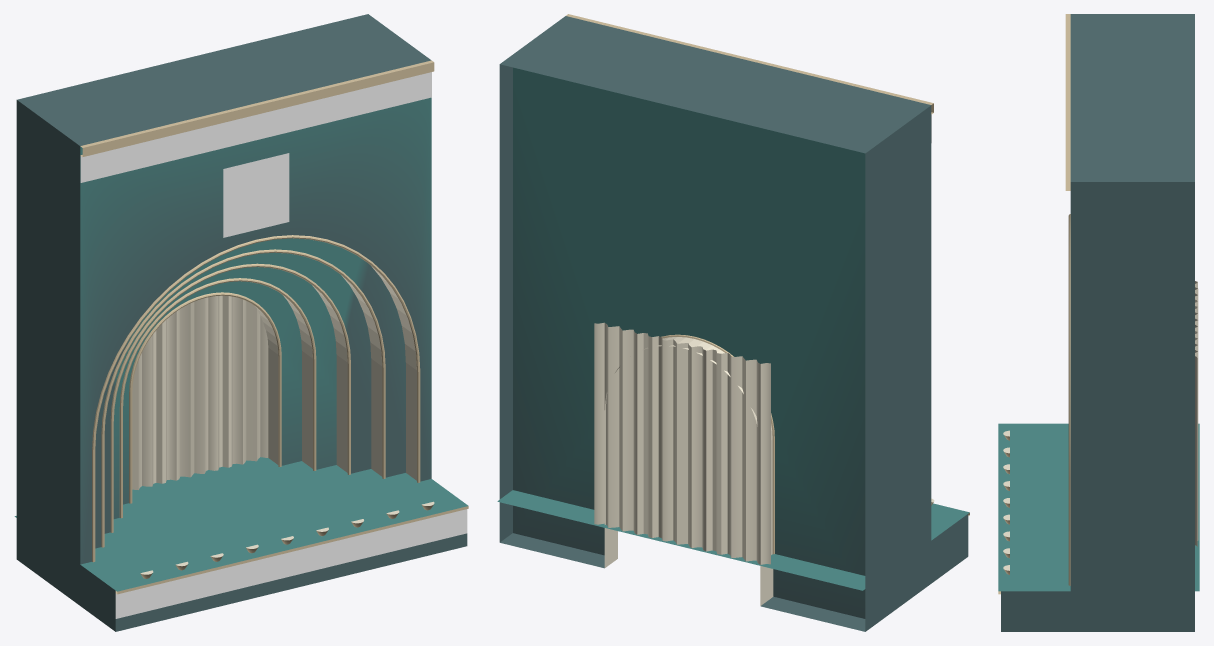
File: KC32__AD_Int_Stage_Shell.glb
3 renders of one model, left to right at view 1: azimuth 30°, elevation 25°; view 2: azimuth 150°, elevation 25°; view 3: azimuth 270°, elevation 25°, orthographic. The views are drawn at different scales.
Visible parts, largest first — view 1: KC32_CORPS__AD_Int_Stage_Shell, KC32_LUMIERE__AD_Int_Stage_Shell, KC32_ACCENT__AD_Int_Stage_Shell, KC32_BRONZE__AD_Int_Stage_Shell; view 2: KC32_CORPS__AD_Int_Stage_Shell, KC32_LUMIERE__AD_Int_Stage_Shell, KC32_BRONZE__AD_Int_Stage_Shell; view 3: KC32_CORPS__AD_Int_Stage_Shell, KC32_BRONZE__AD_Int_Stage_Shell, KC32_LUMIERE__AD_Int_Stage_Shell.
Part boxes in pixels (left/top/right/bottom): KC32_CORPS__AD_Int_Stage_Shell: left=14, top=14, right=468, bottom=631; KC32_LUMIERE__AD_Int_Stage_Shell: left=132, top=266, right=434, bottom=574; KC32_ACCENT__AD_Int_Stage_Shell: left=80, top=72, right=467, bottom=618; KC32_BRONZE__AD_Int_Stage_Shell: left=80, top=60, right=468, bottom=594; KC32_CORPS__AD_Int_Stage_Shell: left=497, top=16, right=969, bottom=631; KC32_LUMIERE__AD_Int_Stage_Shell: left=594, top=322, right=934, bottom=605; KC32_BRONZE__AD_Int_Stage_Shell: left=566, top=14, right=969, bottom=554; KC32_CORPS__AD_Int_Stage_Shell: left=998, top=14, right=1199, bottom=631; KC32_BRONZE__AD_Int_Stage_Shell: left=998, top=14, right=1070, bottom=594; KC32_LUMIERE__AD_Int_Stage_Shell: left=1003, top=281, right=1198, bottom=570.
Bounding box in the file's own units: 8 × 10 × 4.06.
